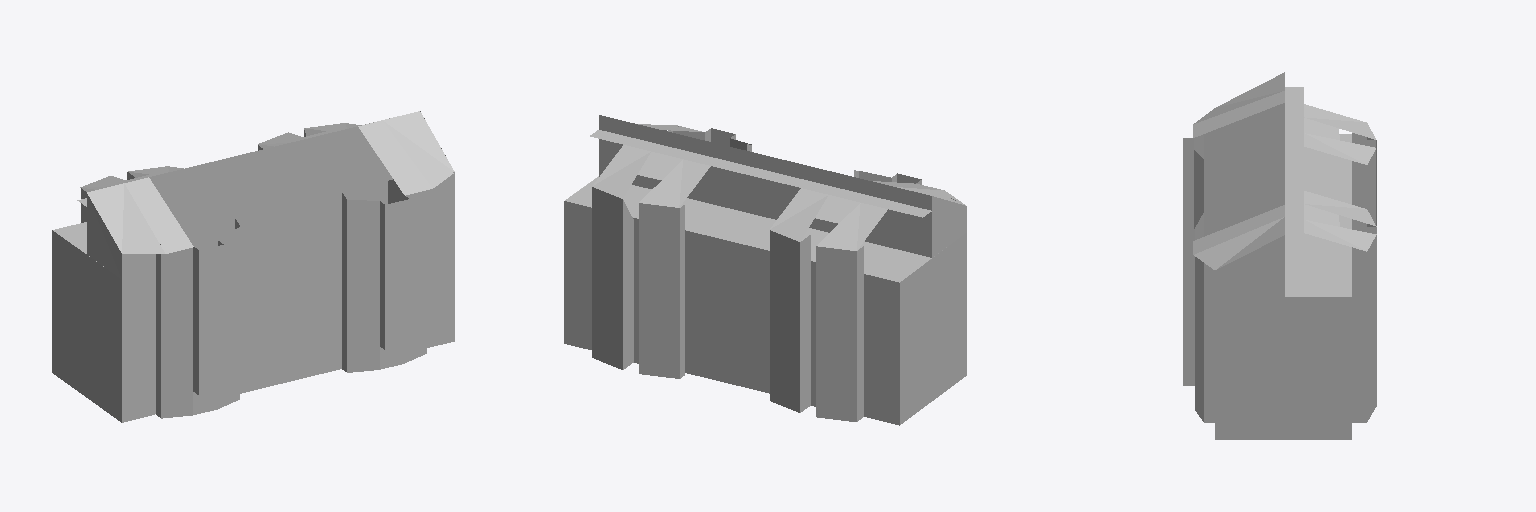
Rendered from home.obj.
3 views of the same model, side by side, from view 1: azimuth 30°, elevation 25°; view 2: azimuth 150°, elevation 25°; view 3: azimuth 270°, elevation 25° (orthographic).
Visible parts, largest first — view 1: Плоскость; view 2: Плоскость; view 3: Плоскость.
Boxes of the visible parts, x1,y1,x2,y2 form: Плоскость: [52, 111, 454, 422]; Плоскость: [564, 115, 966, 425]; Плоскость: [1183, 72, 1376, 439].
Bounding box in the file's own units: 70.49 × 41.13 × 35.32.